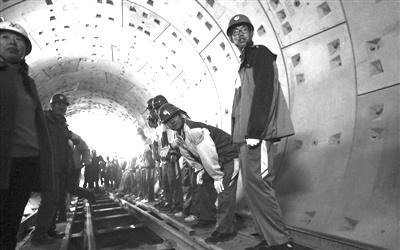helmet: (1, 21, 32, 60), (226, 14, 254, 46), (159, 103, 182, 131), (49, 93, 70, 116), (152, 94, 167, 116), (146, 98, 154, 115)
